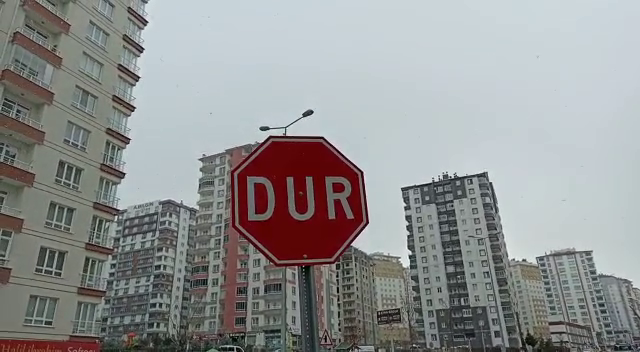stop: (226, 131, 374, 272)
